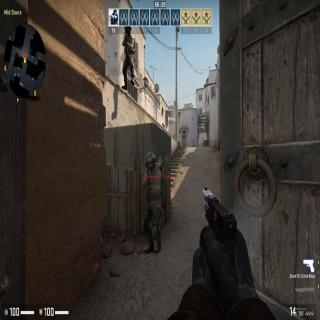CT-Body: (139, 150, 163, 245), (122, 26, 134, 89)
CT-Head: (145, 151, 155, 167), (125, 26, 132, 38)
